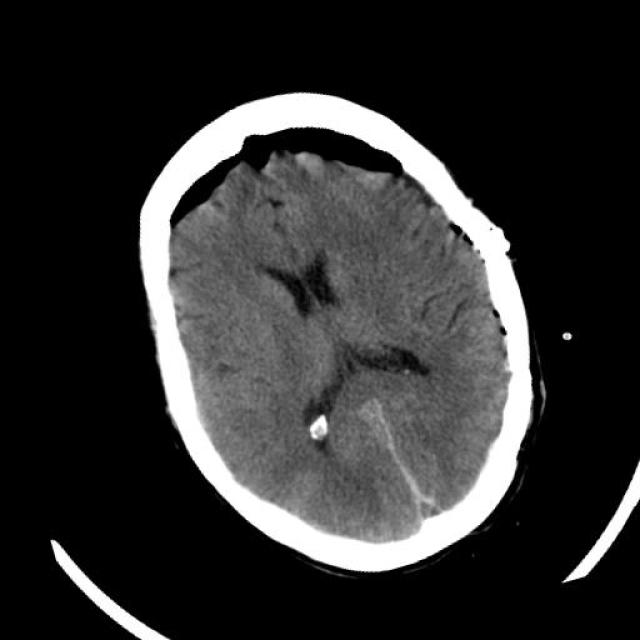Subdural: (350, 377, 460, 549)
